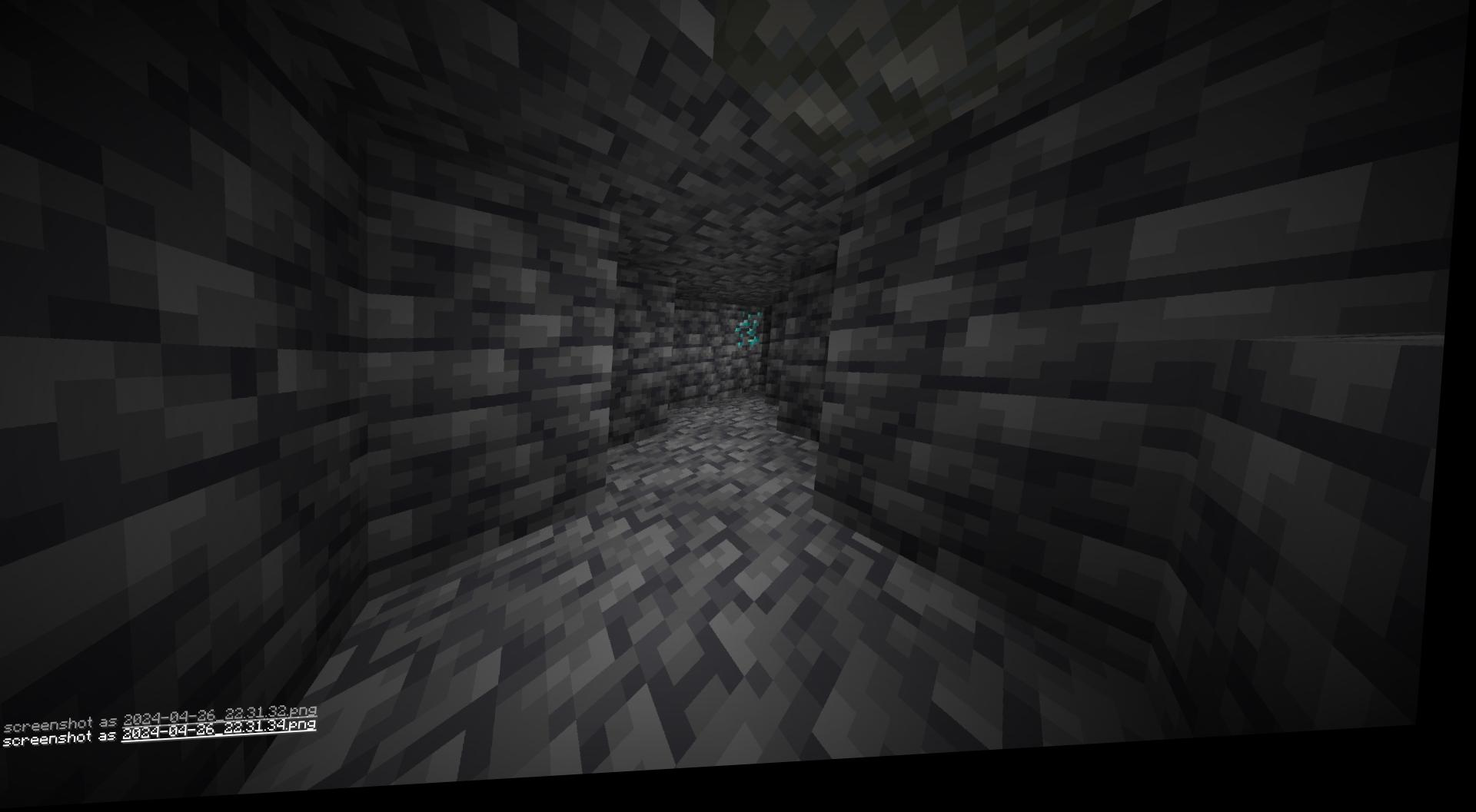diamond ore: (740, 316, 773, 356)
